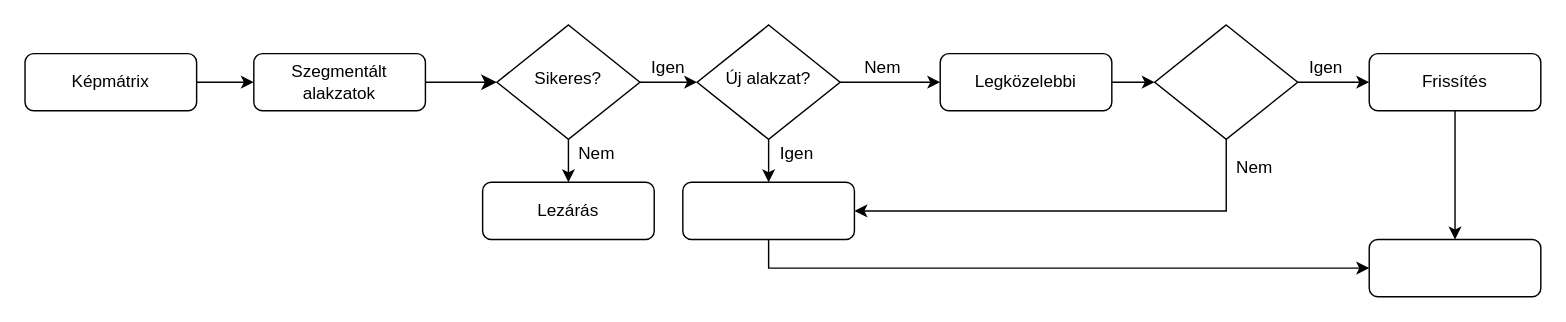
This 1566x322 diagram has some shape labels left out. Each missing label, with the centre of its shape:
Felvétel: point (767, 210)
Megfelelő?: point (1225, 81)
Utófeldolgozás: point (1454, 267)
